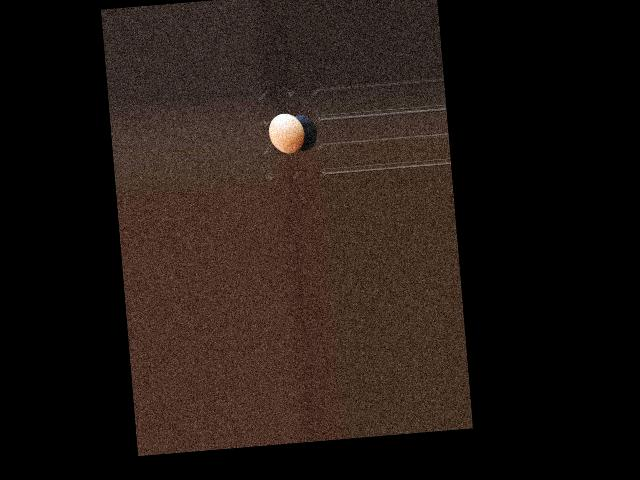egg: (267, 112, 306, 155)
